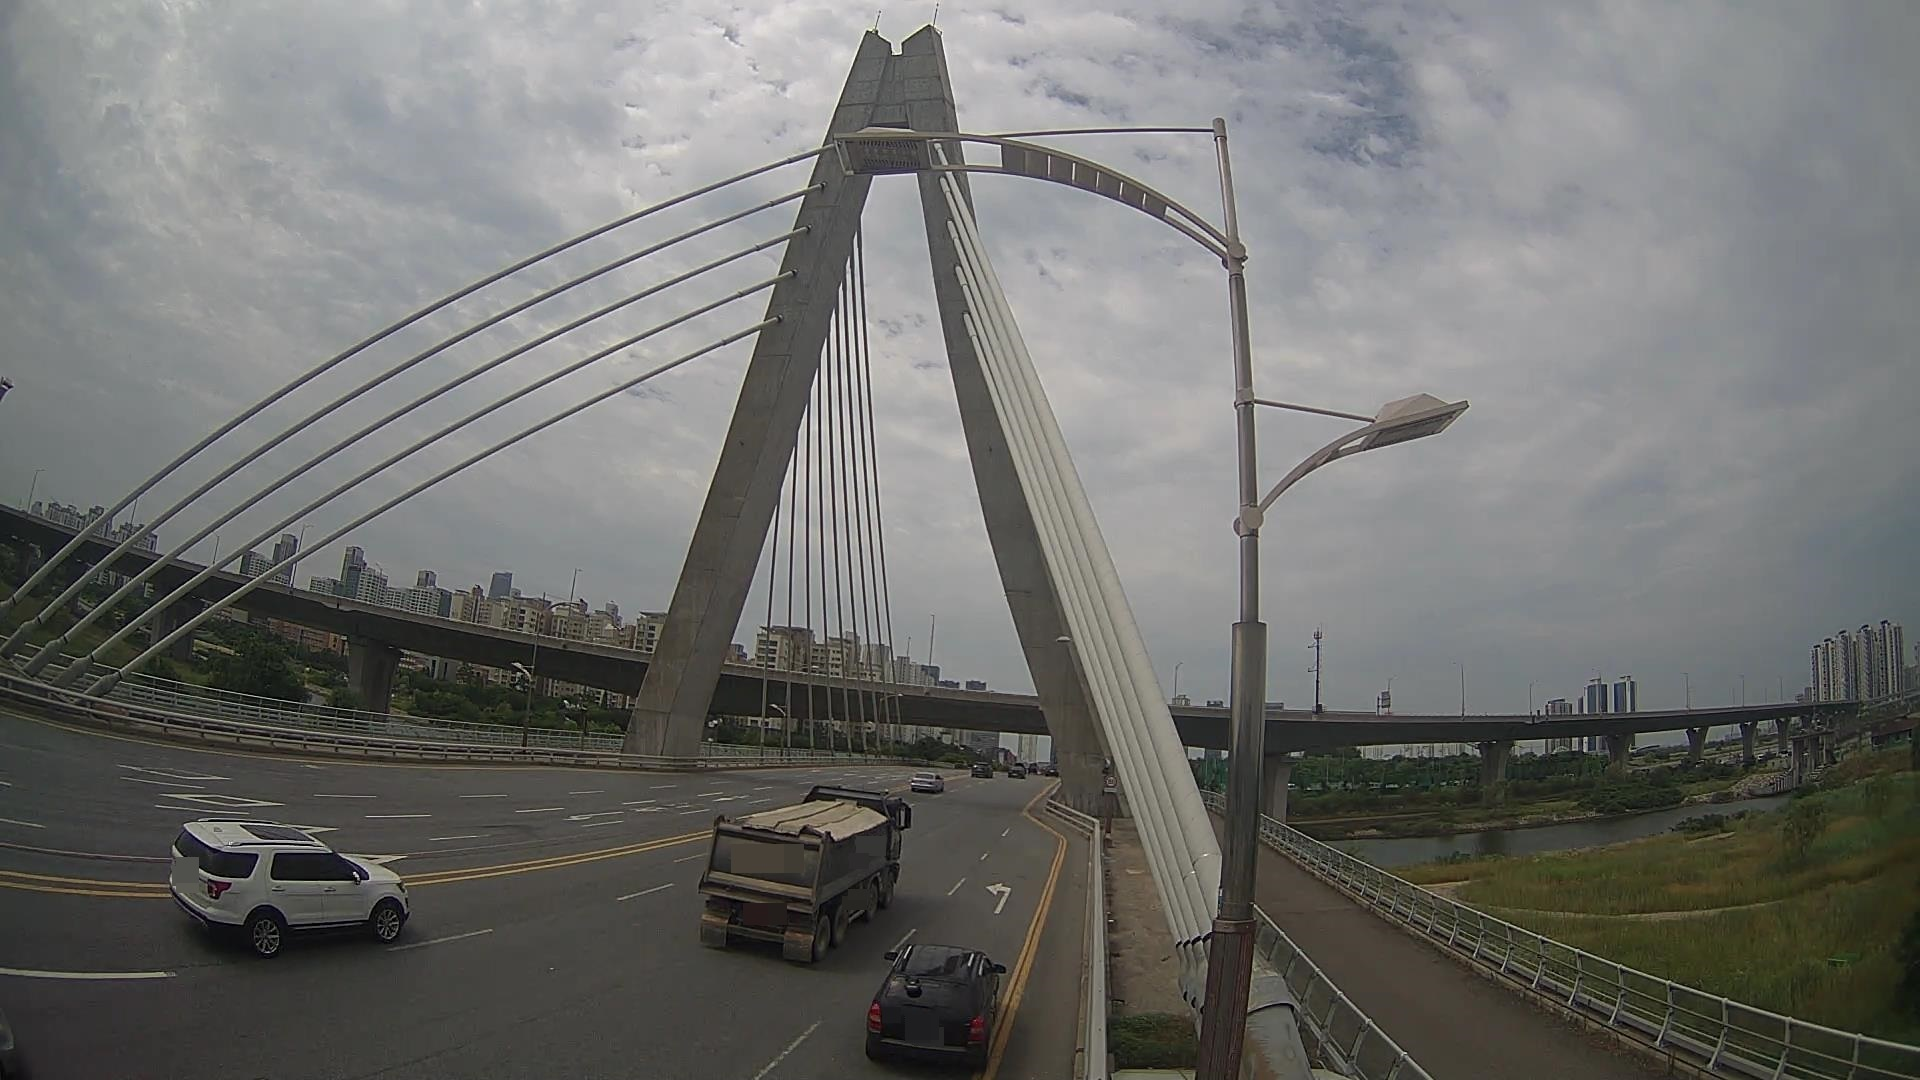정상차량: (698, 785, 913, 961)
